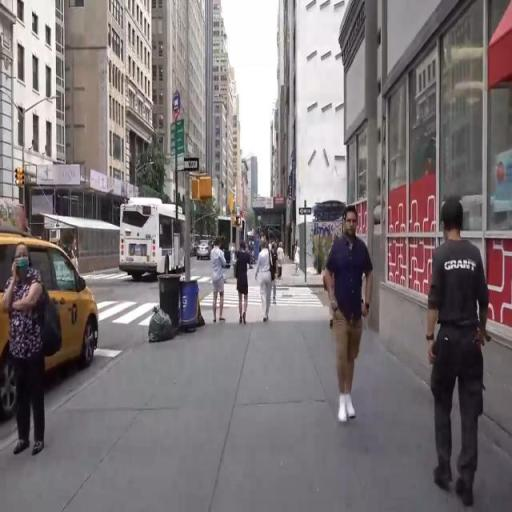person: (427, 200, 497, 508), (320, 198, 380, 447), (10, 241, 64, 460), (255, 234, 277, 327), (210, 240, 231, 335), (232, 238, 252, 329), (271, 242, 281, 310), (293, 233, 303, 283), (278, 242, 285, 271)
